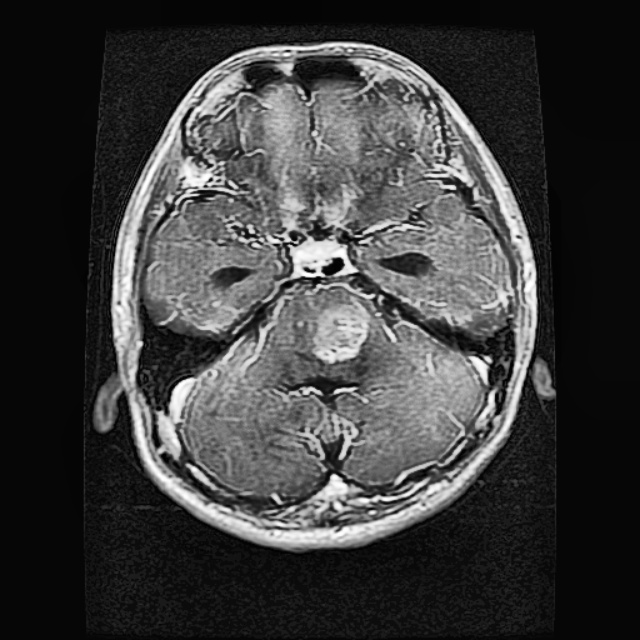Pituitary: (297, 290, 369, 363)
